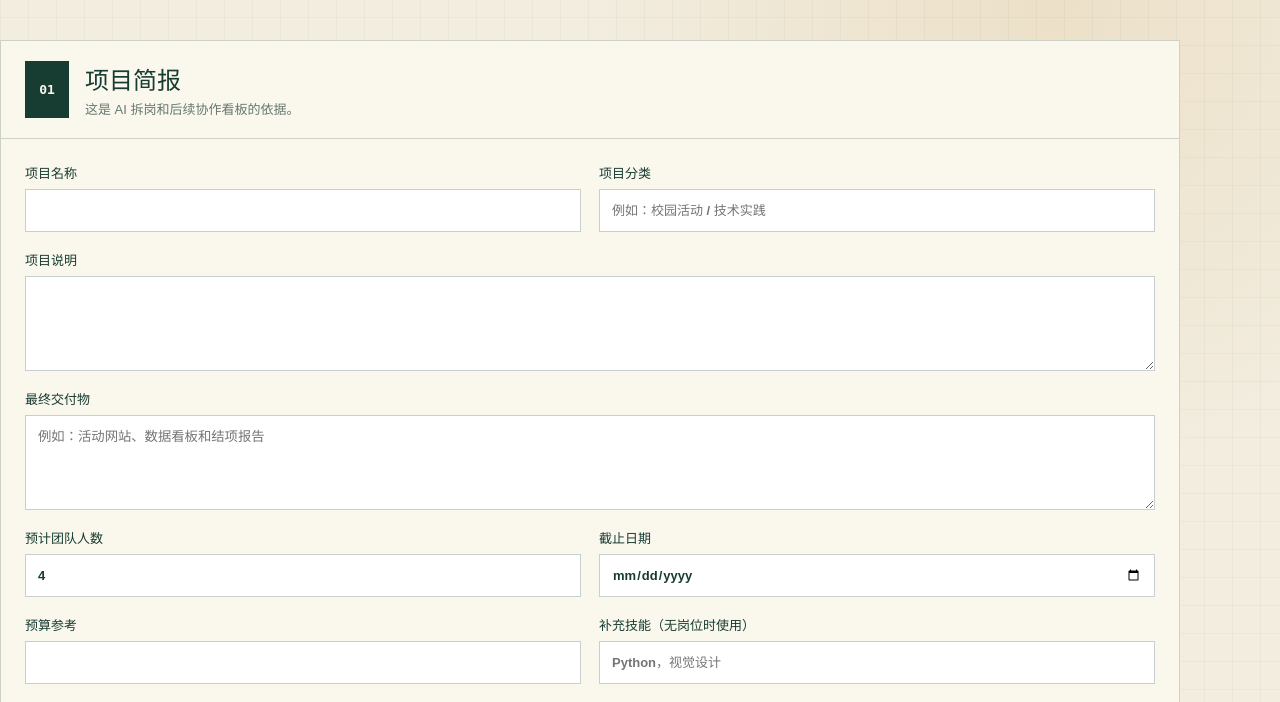
it: applies the AI role and task draft without publishing the project
This screenshot has width=1280, height=702.
In the field labelled "项目名称": (303, 210) x1=25 y1=189 x2=581 y2=232, type "校园技术节平台"
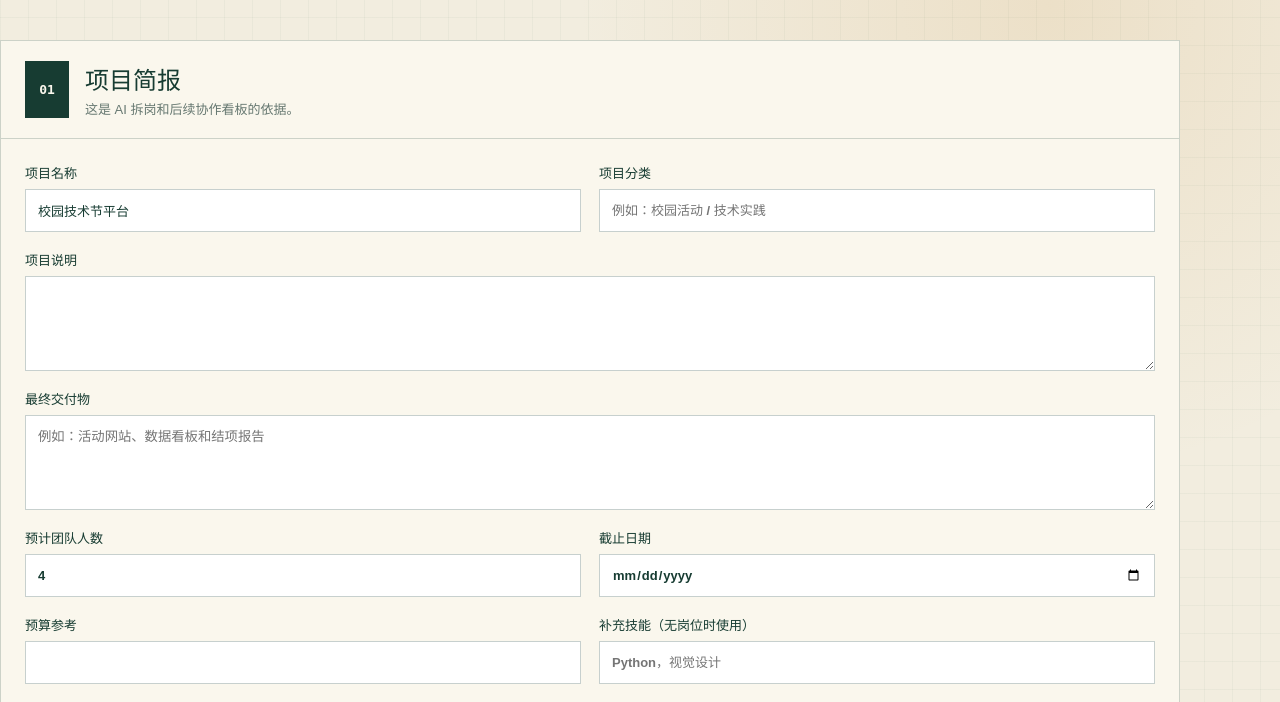
In the field labelled "项目分类": (877, 210) x1=599 y1=189 x2=1155 y2=232, type "技术实践"
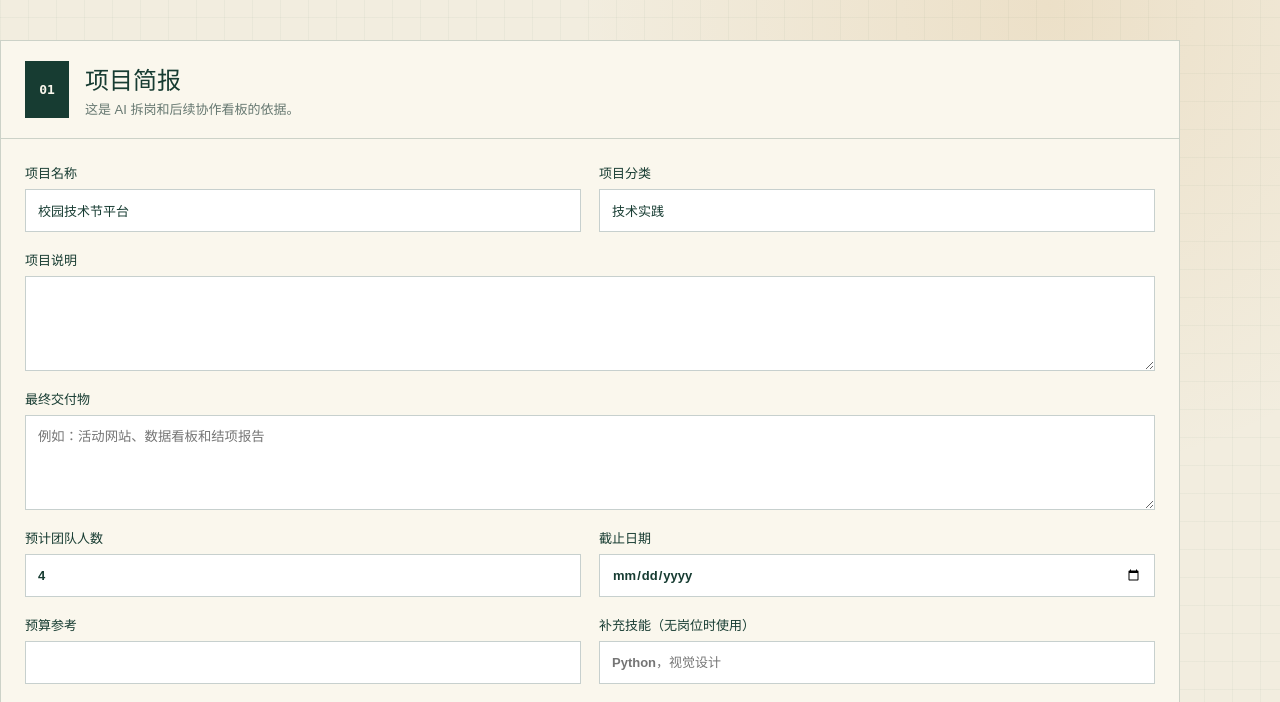
In the text box labelled "项目说明": (590, 323) x1=25 y1=276 x2=1155 y2=371, type "完成报名和活动数据服务"
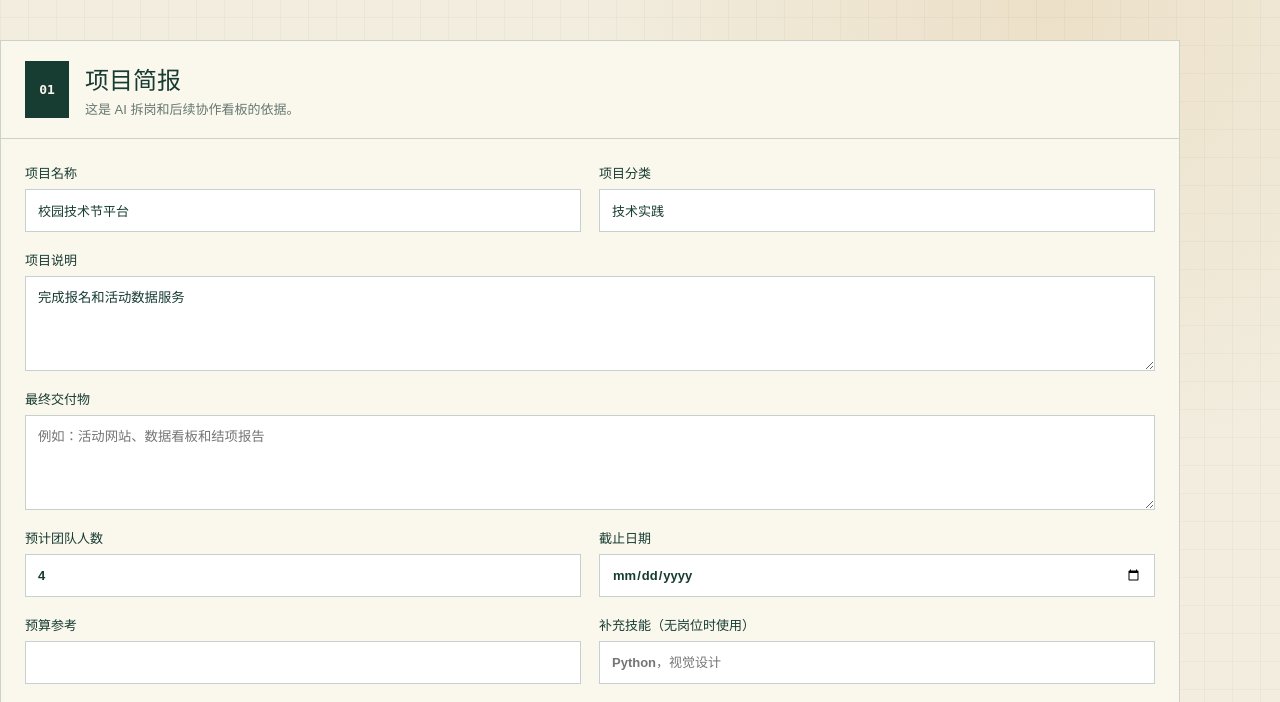
In the text box labelled "最终交付物": (590, 462) x1=25 y1=415 x2=1155 y2=510, type "可运行服务"
(page scrolled)
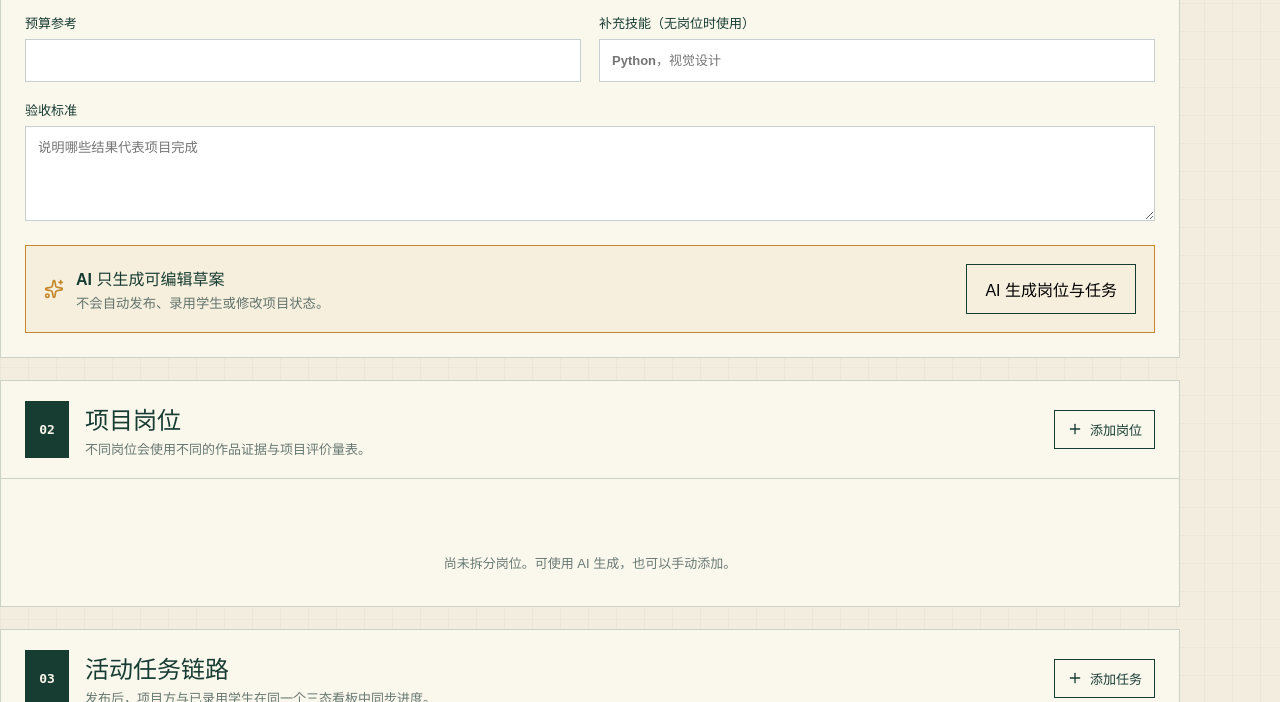
Click the button "AI 生成岗位与任务": (1051, 289) x1=966 y1=264 x2=1136 y2=314
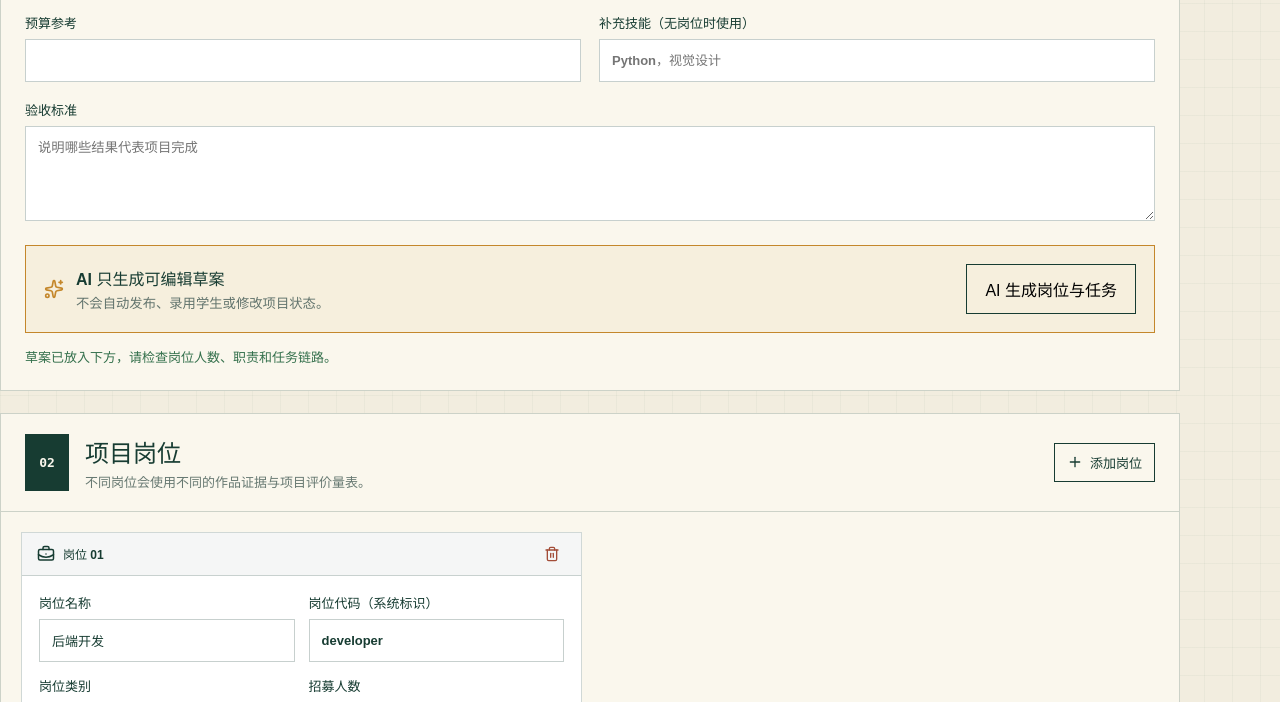
Expected: the text "AI 只生成可编辑草案" is shown, x1=76 y1=271 x2=224 y2=288
Now the field labelled "岗位名称" holds "后端开发", box x1=39 y1=619 x2=294 y2=662
